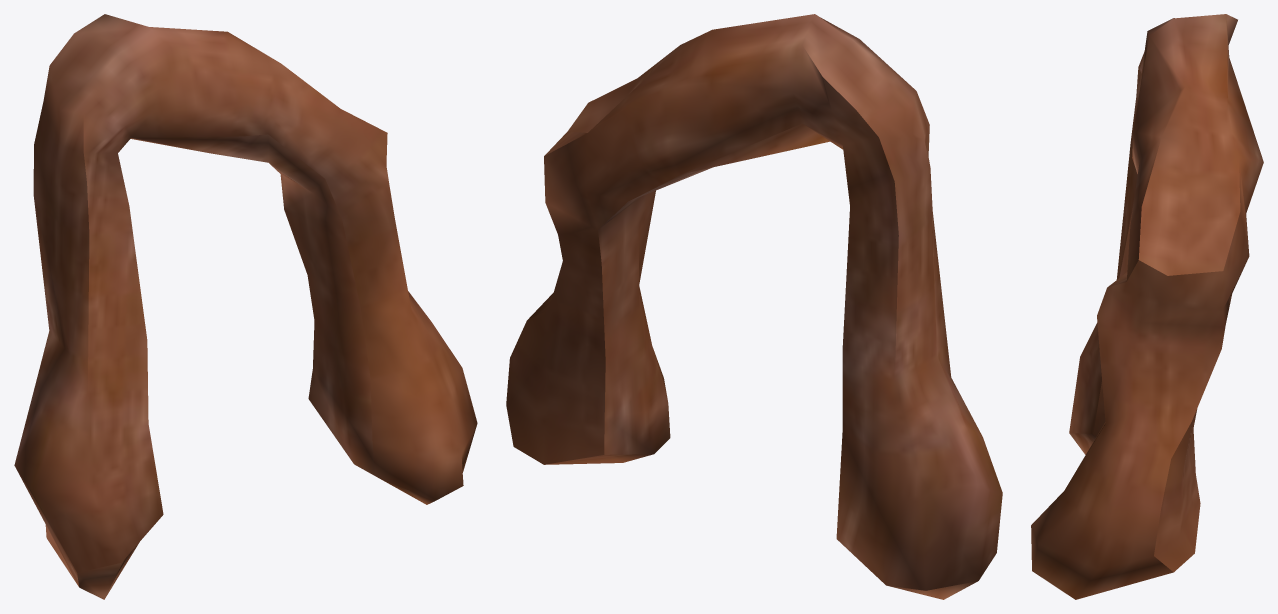
File: Canyon_Rock_Formations_5.glb
The picture shows the model from 3 angles, left to right: view 1: azimuth 30°, elevation 25°; view 2: azimuth 150°, elevation 25°; view 3: azimuth 270°, elevation 25°; orthographic projection. The views are drawn at different scales.
Parts seen in each view (by area): view 1: Canyon_Rock_Formations_5_0; view 2: Canyon_Rock_Formations_5_0; view 3: Canyon_Rock_Formations_5_0.
Boxes of the visible parts, bbox=[...] form: Canyon_Rock_Formations_5_0: bbox=[14, 14, 477, 599]; Canyon_Rock_Formations_5_0: bbox=[506, 14, 1002, 599]; Canyon_Rock_Formations_5_0: bbox=[1031, 14, 1263, 599].
Size of the model in its own units: 16.9 by 19.66 by 8.25.
Materials: 1 (1 with a texture image).
